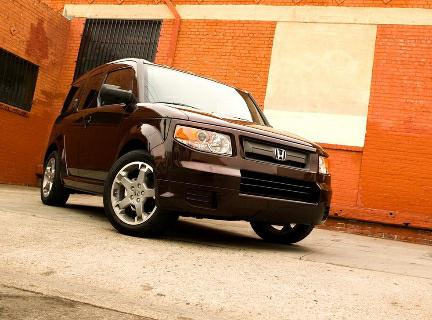本田-元素: (34, 54, 338, 254)
